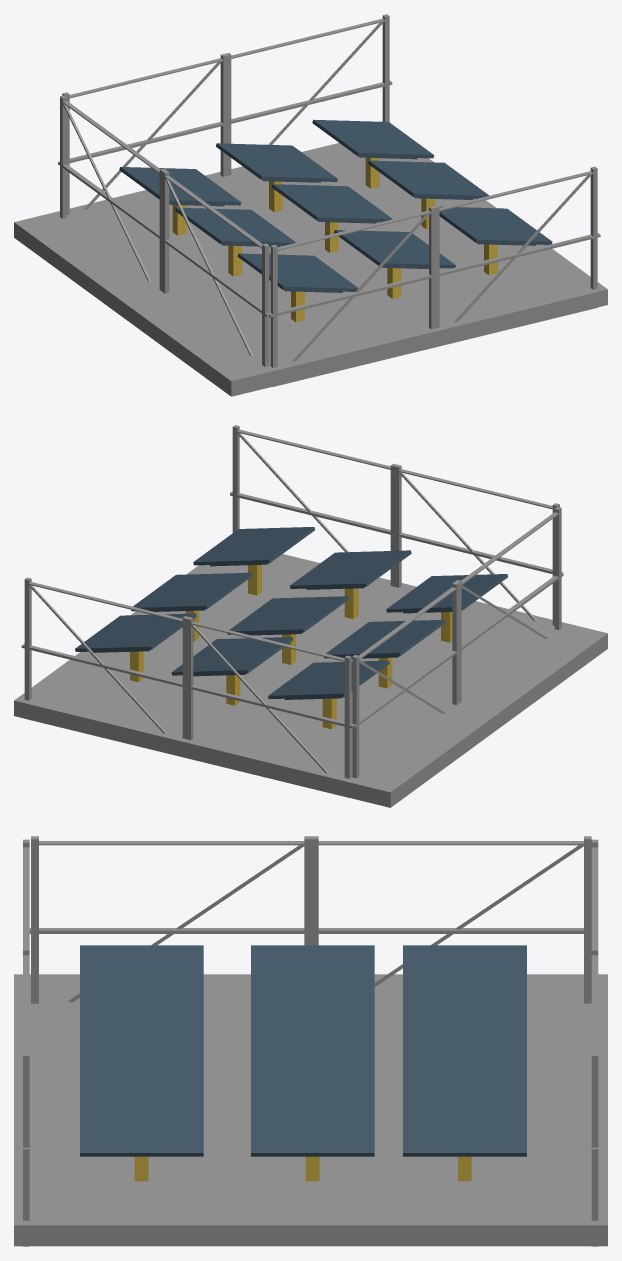
The model's file is solar_farm_model.fbx.
3 renders of one model, top to bottom at view 1: azimuth 30°, elevation 25°; view 2: azimuth 150°, elevation 25°; view 3: azimuth 270°, elevation 25°, orthographic. The views are drawn at different scales.
Parts seen in each view (by area): view 1: solar_farm; view 2: solar_farm; view 3: solar_farm.
Part boxes in pixels (bbox=[...]): solar_farm: bbox=[14, 14, 607, 396]; solar_farm: bbox=[14, 425, 607, 807]; solar_farm: bbox=[14, 836, 607, 1246].
Size of the model in its own units: 7.81 by 2.76 by 7.81.
